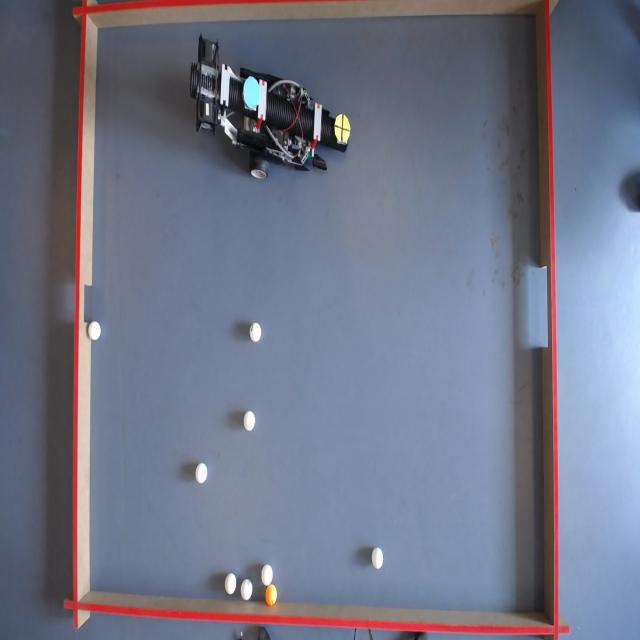orange: (264, 584, 278, 606)
robot: (185, 35, 353, 178)
robot-front: (333, 114, 352, 148)
robot-rear: (243, 76, 261, 111)
white: (260, 563, 274, 587), (371, 546, 384, 570), (240, 580, 254, 601), (224, 573, 237, 595), (90, 320, 104, 340), (249, 321, 262, 342), (197, 463, 209, 483), (244, 412, 256, 432)
